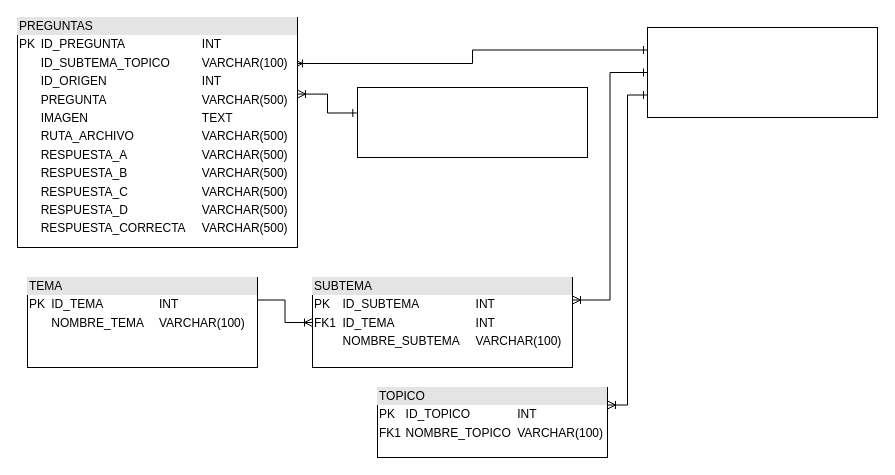
The diagram is 895 pixels wide and 475 high, and some of its shapes have lost their labels. The centre of each missing label's shape, as x and y in pixels:
"ORIGEN PK ID_ORIGEN INT NOMBRE_ORIGEN VARCHAR(100)" belongs at [472,122].
"SUBTEMA_TOPICO PK ID_SUBTOPICO INT FK1 ID_SUBTEMA INT FK1 ID_TOPICO INT" belongs at [762,72].
